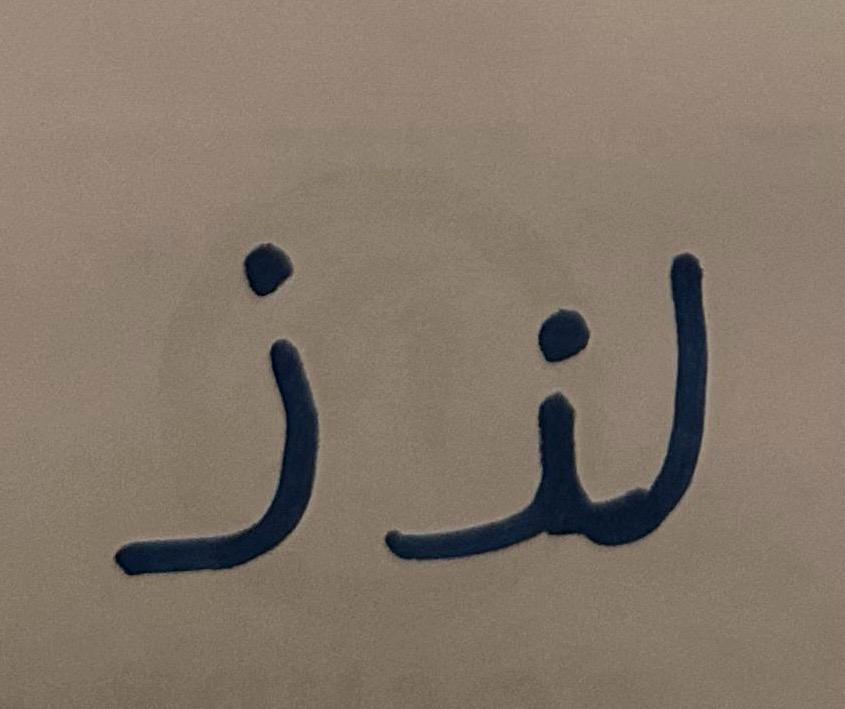ain: (86, 158, 364, 625), (368, 266, 608, 607)
meem: (615, 206, 773, 600)
